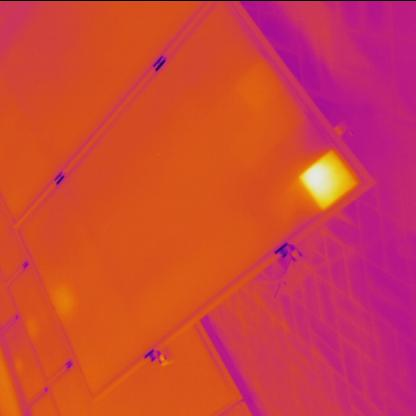hotspot: (298, 140, 362, 212)
